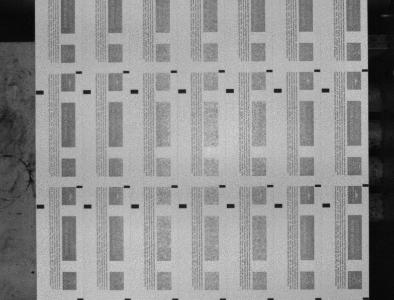backgroundclutter: (31, 270, 35, 274)
qblock: (130, 89, 139, 94), (36, 204, 45, 209), (275, 203, 283, 208), (274, 88, 282, 93), (322, 203, 331, 207), (178, 89, 187, 93), (36, 90, 44, 94), (179, 204, 187, 208), (131, 204, 139, 208), (84, 204, 92, 208), (227, 204, 235, 208), (226, 89, 234, 93), (83, 90, 91, 94), (322, 88, 330, 92)
smallqblock: (219, 185, 226, 188), (267, 184, 274, 187), (76, 185, 83, 188), (123, 70, 130, 73), (172, 185, 178, 188), (124, 185, 130, 188), (315, 184, 321, 187), (219, 70, 225, 73), (267, 69, 273, 72), (171, 70, 177, 73), (315, 69, 321, 72), (76, 71, 82, 74), (363, 184, 369, 187), (363, 69, 369, 72)
